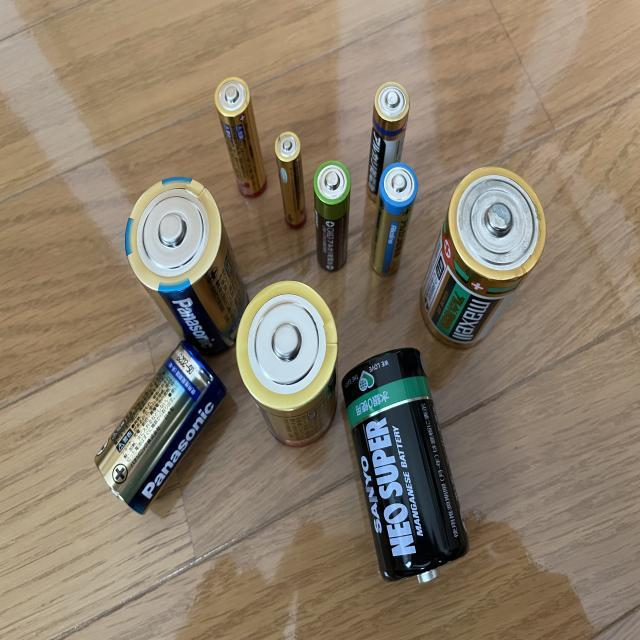battery: (342, 345, 477, 599), (420, 163, 548, 355), (92, 346, 230, 517), (129, 170, 253, 360), (237, 279, 345, 454), (212, 75, 268, 200), (362, 74, 410, 204), (369, 163, 420, 275), (311, 158, 357, 276), (273, 128, 309, 231)
